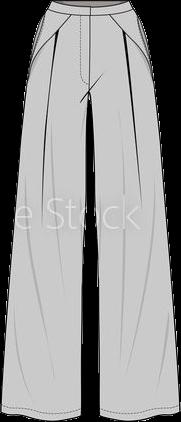Hemline: (99, 407, 180, 421), (1, 408, 81, 421)
Pantleg: (89, 1, 178, 419), (2, 1, 89, 419)
Waistline: (109, 15, 154, 72), (27, 14, 73, 64), (45, 5, 136, 19), (50, 0, 131, 10)
